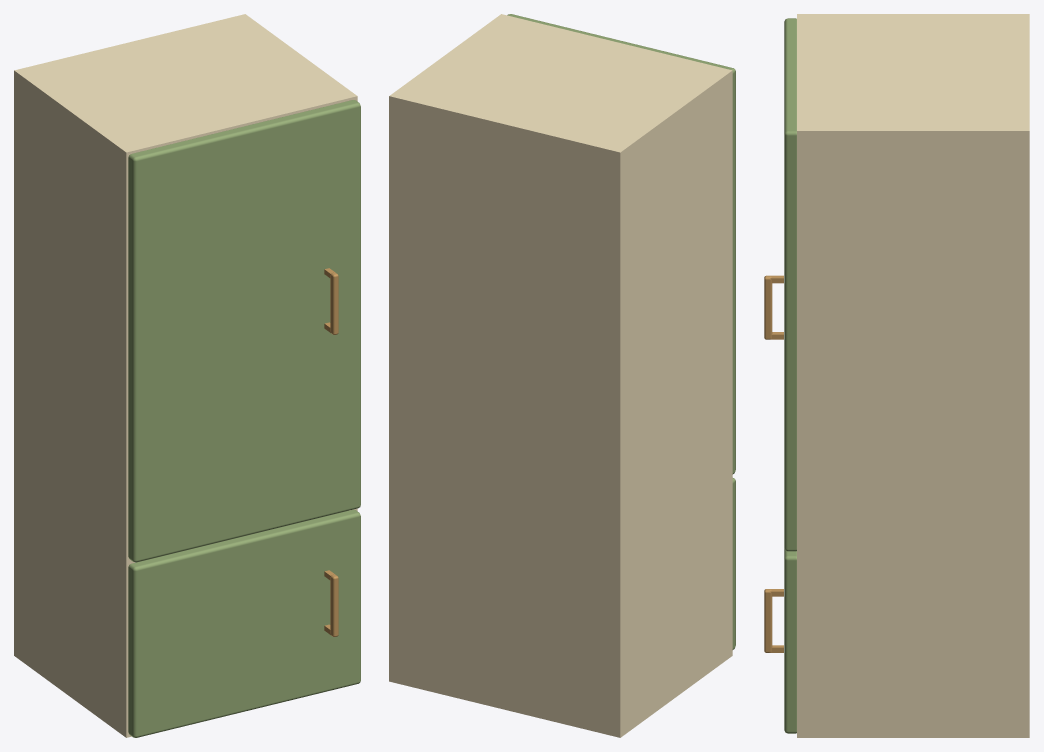
The model's file is fridge_veranda-ae465afd3e9e.glb.
3 renders of one model, left to right at view 1: azimuth 30°, elevation 25°; view 2: azimuth 150°, elevation 25°; view 3: azimuth 270°, elevation 25°, orthographic. The views are drawn at different scales.
Visible parts, largest first — view 1: surface_sage, surface_ivory, surface_brass; view 2: surface_ivory, surface_sage; view 3: surface_ivory, surface_sage, surface_brass.
Part boxes in pixels (x1,y1,x2,y2): surface_sage: [128, 100, 360, 737]; surface_ivory: [14, 14, 357, 737]; surface_brass: [324, 268, 338, 636]; surface_ivory: [389, 14, 732, 737]; surface_sage: [507, 14, 735, 649]; surface_ivory: [797, 14, 1029, 737]; surface_sage: [784, 18, 796, 733]; surface_brass: [764, 275, 783, 652].
Bounding box in the file's own units: 0.74 × 1.79 × 0.71.
